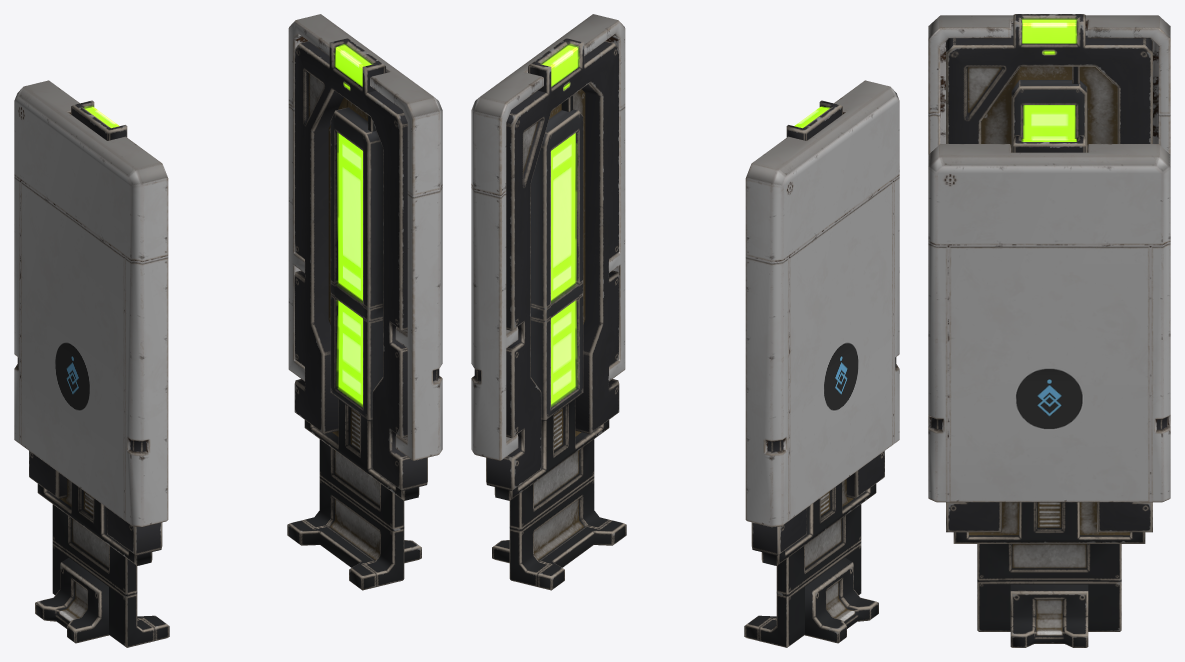
Rendered from sci-fi_scanner_prop_fan_art.glb.
3 views of the same model, side by side, from view 1: azimuth 30°, elevation 25°; view 2: azimuth 150°, elevation 25°; view 3: azimuth 270°, elevation 25° (orthographic). The views are drawn at different scales.
Parts seen in each view (by area): view 1: Scanner; view 2: Scanner; view 3: Scanner.
Boxes of the visible parts, x1,y1,x2,y2 form: Scanner: [14, 14, 442, 647]; Scanner: [471, 14, 899, 647]; Scanner: [928, 14, 1170, 647].
Size of the model in its own units: 128 by 178 by 80.
Materials: 1 (1 with a texture image).
